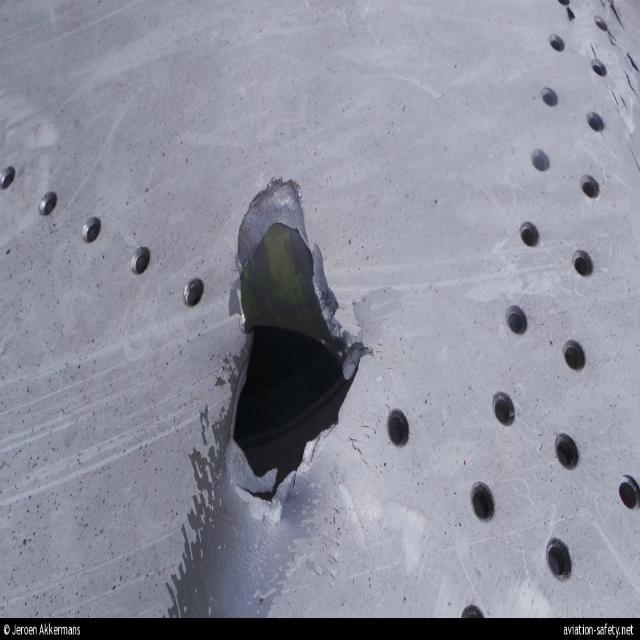crack: (219, 225, 375, 510), (563, 1, 639, 170)
